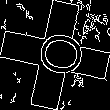O_W: (26, 29, 84, 81)
